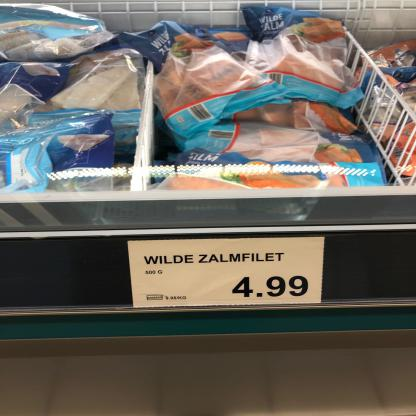prtg: (127, 237, 328, 309)
